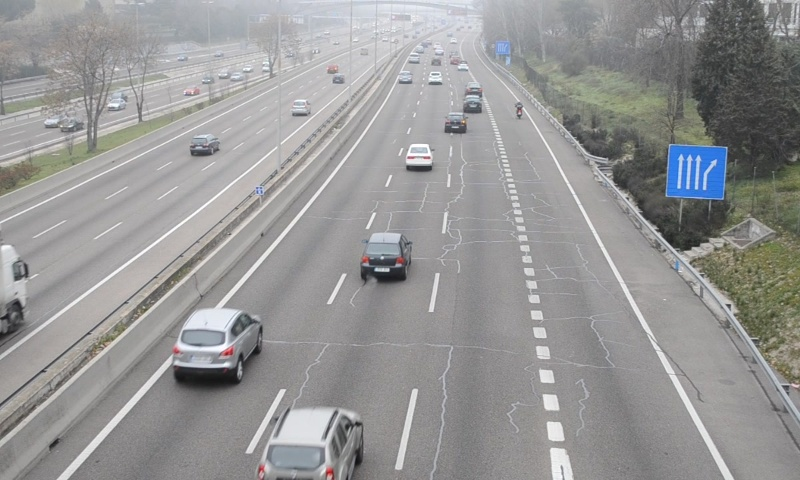car: (258, 405, 362, 480), (172, 308, 262, 372), (362, 233, 410, 276), (406, 143, 434, 167), (444, 112, 466, 132), (463, 95, 482, 113), (426, 70, 444, 86), (466, 82, 484, 96)
motorcycle: (514, 100, 524, 120)
